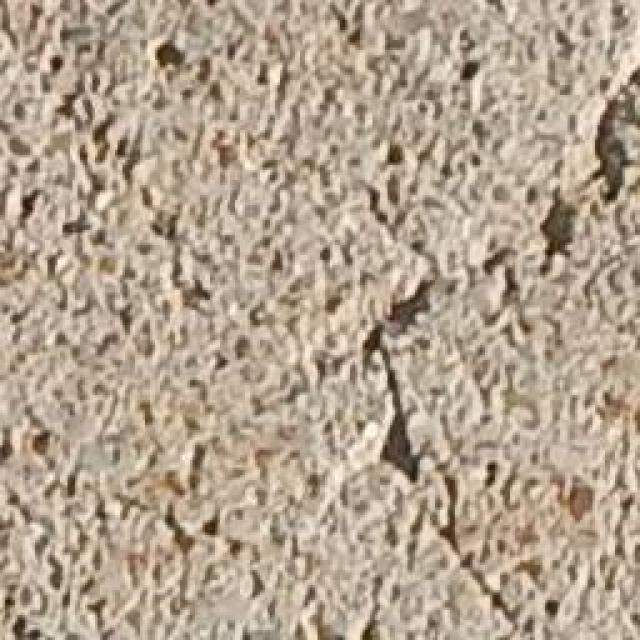concrete-crack: (345, 57, 637, 640)
